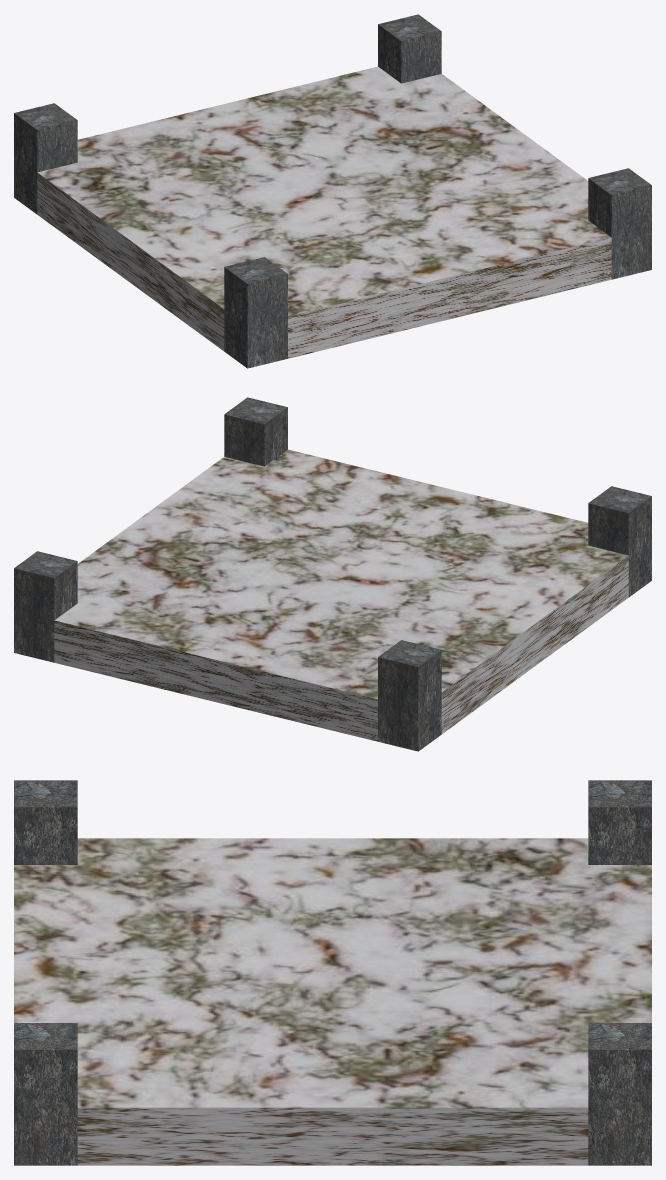
The model's file is Four Way.glb.
3 renders of one model, top to bottom at view 1: azimuth 30°, elevation 25°; view 2: azimuth 150°, elevation 25°; view 3: azimuth 270°, elevation 25°, orthographic. The views are drawn at different scales.
Parts seen in each view (by area): view 1: Four Way, Cube.006, Cube, Cube.007, Cube.008; view 2: Four Way, Cube.007, Cube.008, Cube.006, Cube; view 3: Four Way, Cube, Cube.008, Cube.006, Cube.007.
Part boxes in pixels (left/top/right/bottom): Four Way: left=37, top=66, right=611, bottom=358; Cube.006: left=224, top=257, right=287, bottom=368; Cube: left=588, top=168, right=651, bottom=279; Cube.007: left=14, top=103, right=77, bottom=214; Cube.008: left=378, top=14, right=441, bottom=83; Four Way: left=54, top=449, right=628, bottom=741; Cube.007: left=378, top=640, right=441, bottom=751; Cube.008: left=14, top=551, right=77, bottom=662; Cube.006: left=588, top=486, right=651, bottom=597; Cube: left=224, top=397, right=287, bottom=466; Four Way: left=14, top=838, right=651, bottom=1165; Cube: left=14, top=1023, right=77, bottom=1165; Cube.008: left=588, top=1023, right=651, bottom=1165; Cube.006: left=14, top=780, right=77, bottom=864; Cube.007: left=588, top=780, right=651, bottom=864.
Bounding box in the file's own units: 1 × 0.2 × 1.
Materials: 2 (2 with a texture image).
